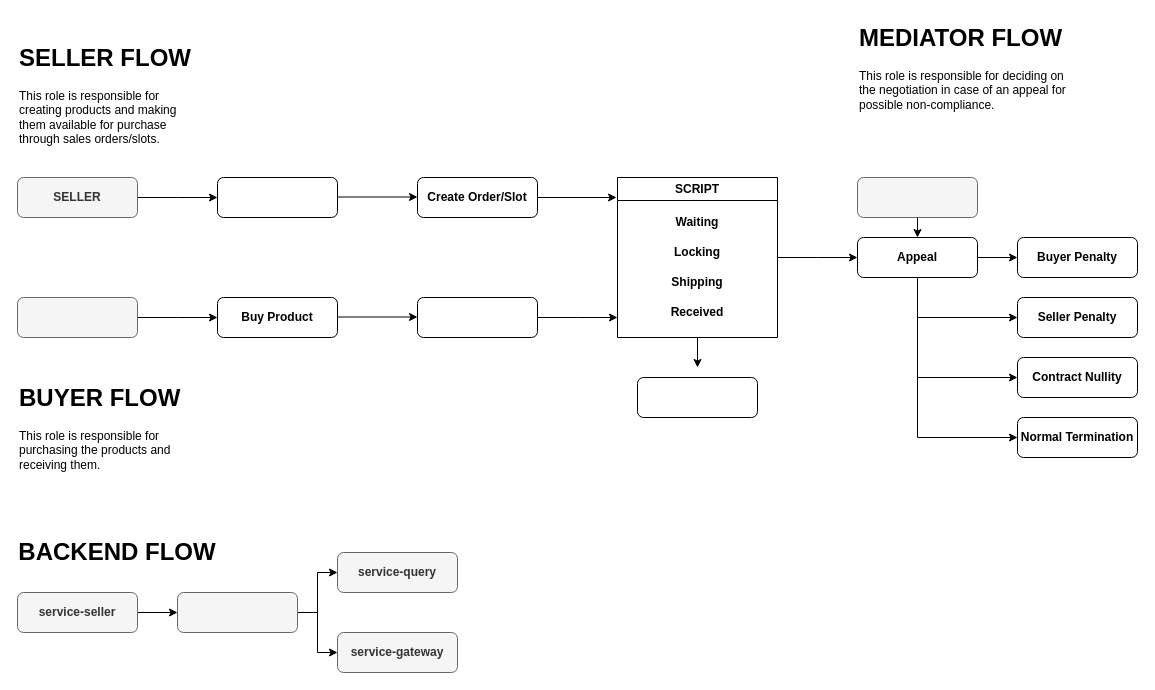
Image size: 1155x690. Some labels were removed from this diagram. The shapes that lost their labels are listed below. From the top down, each one's centre as x and y in pixels, then its label:
At pixel 277 197: "Create Product".
At pixel 917 197: "MEDIATOR".
At pixel 77 317: "BUYER".
At pixel 477 317: "Order Locked".
At pixel 697 397: "Finish".
At pixel 237 612: "service-product".
